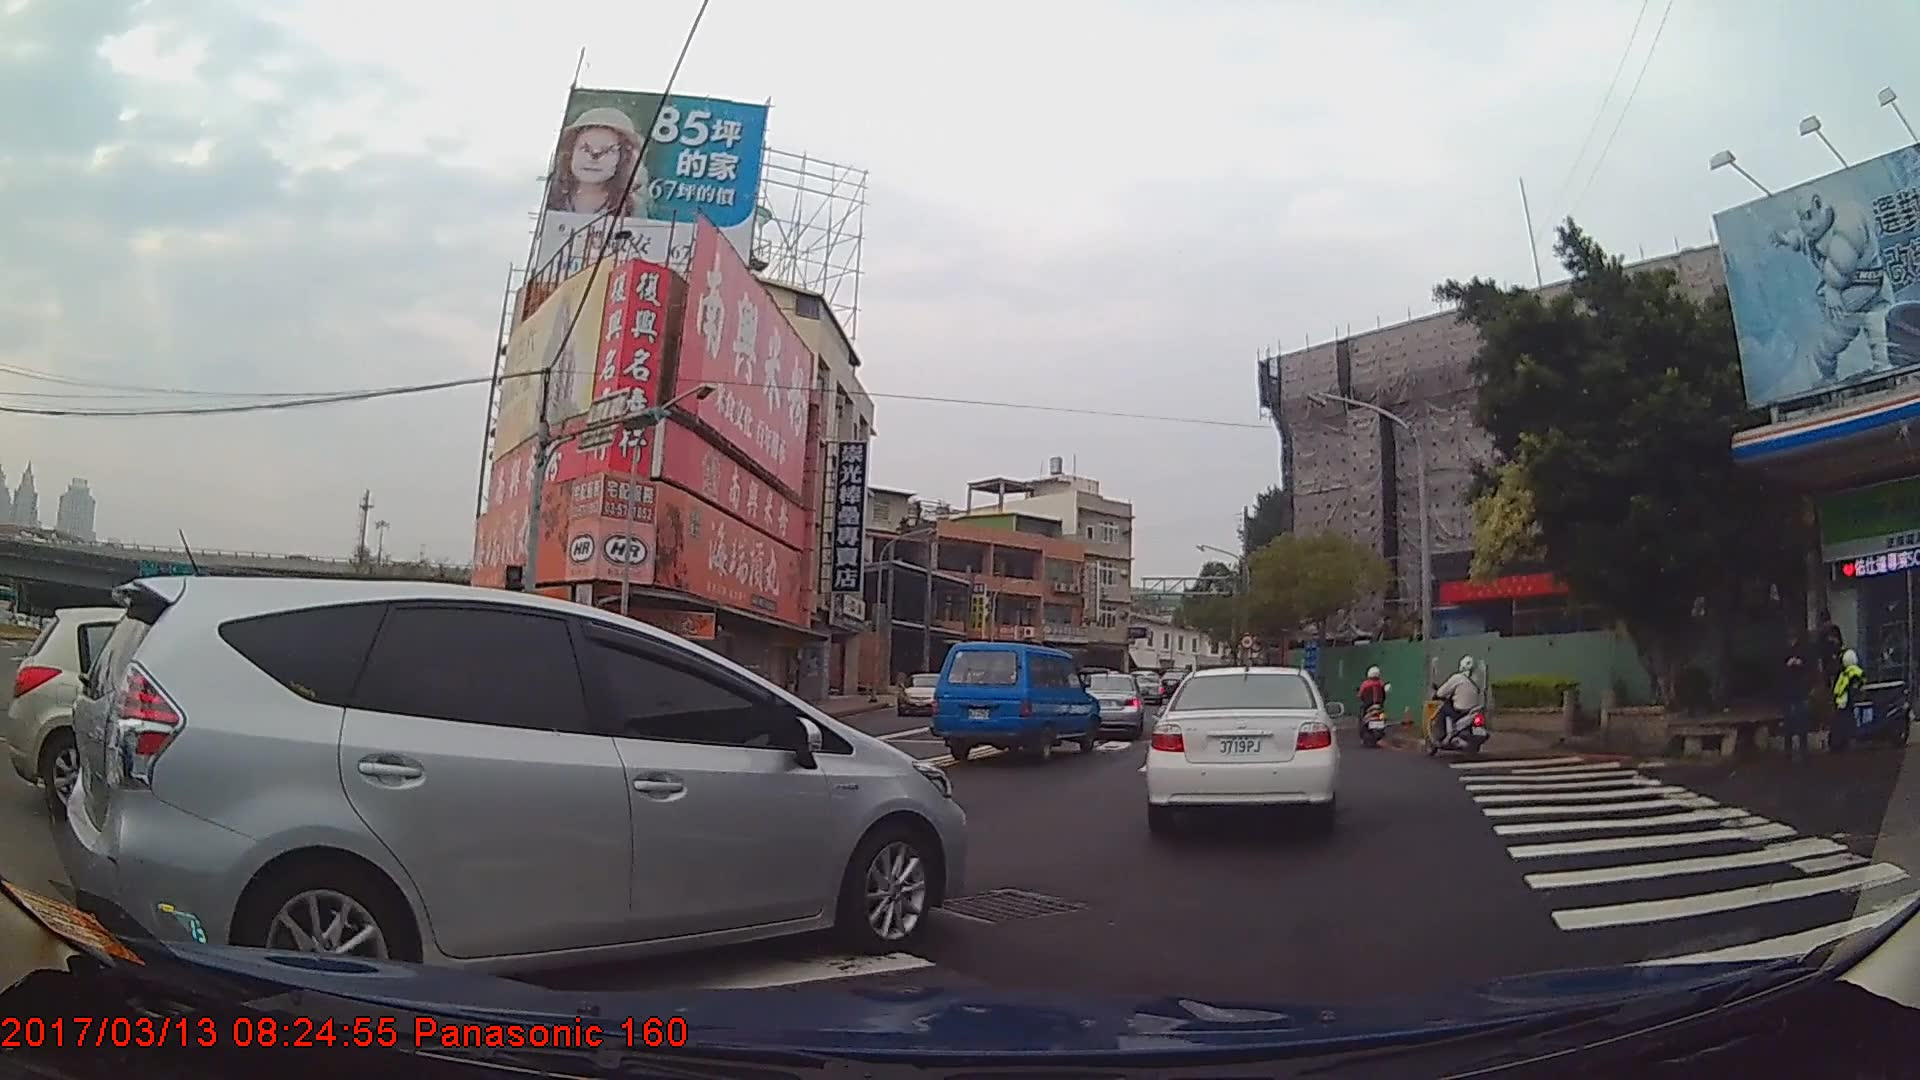pedestrian: (1774, 632, 1819, 755), (1804, 608, 1842, 717)
rider: (1425, 655, 1489, 754), (1359, 664, 1390, 746)
vehicle: (64, 574, 975, 1003), (1144, 667, 1339, 840), (928, 642, 1099, 762), (1071, 670, 1145, 738), (896, 672, 954, 720)
